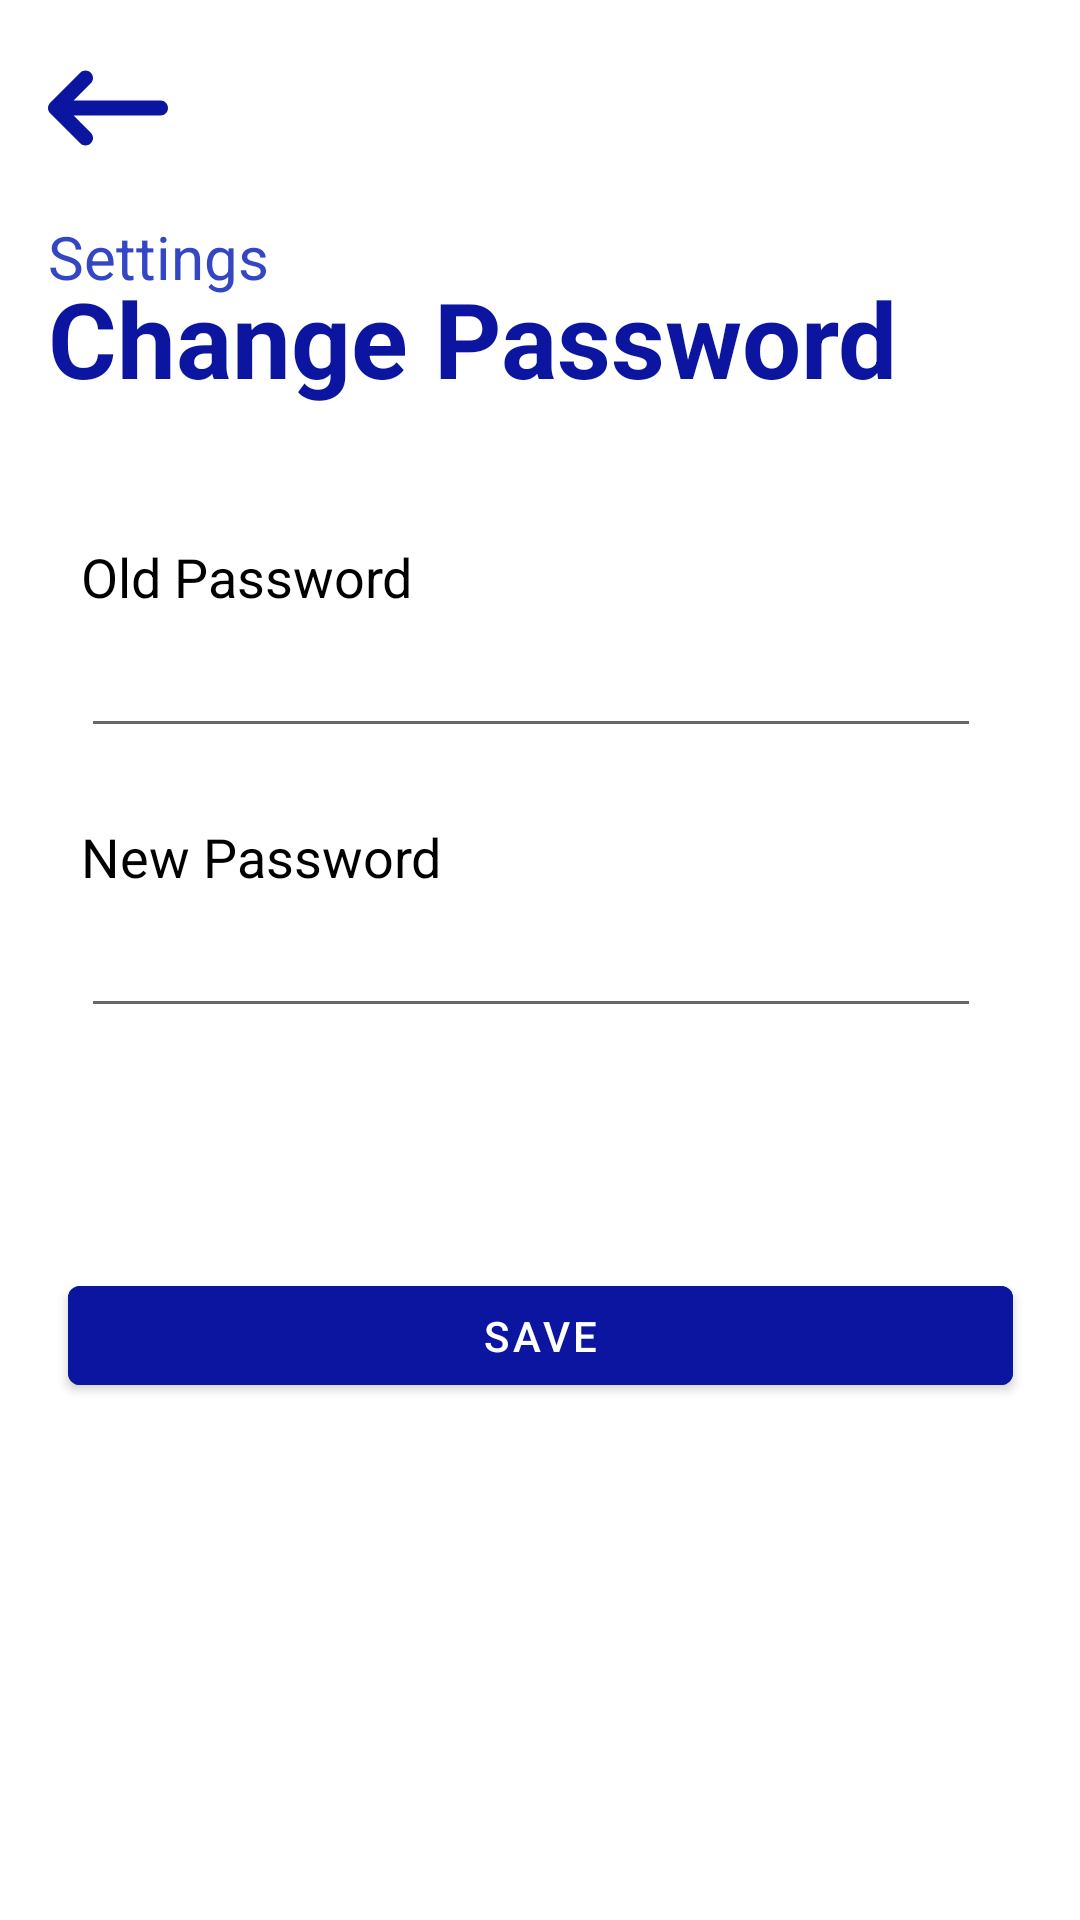

Screen size 1080*1920. Icon name, then its box in pixels as (x1, y1, x2, y2):
arrow left long: (48, 70, 168, 146)
